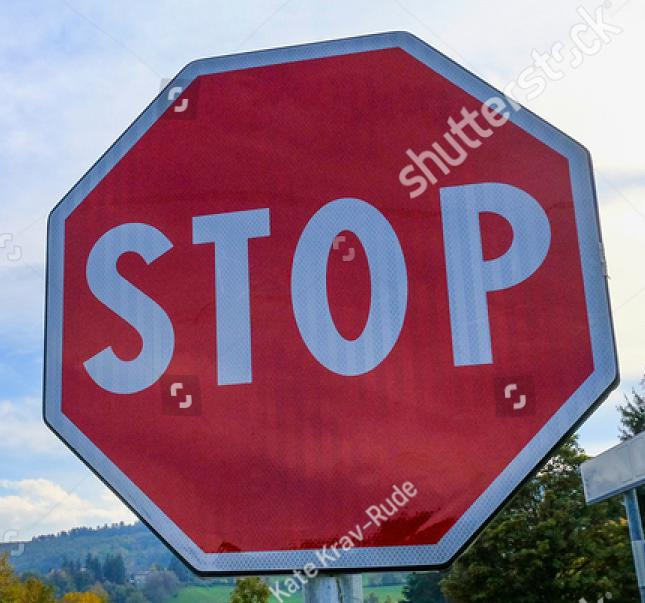Stop sign: (0, 0, 644, 602)
